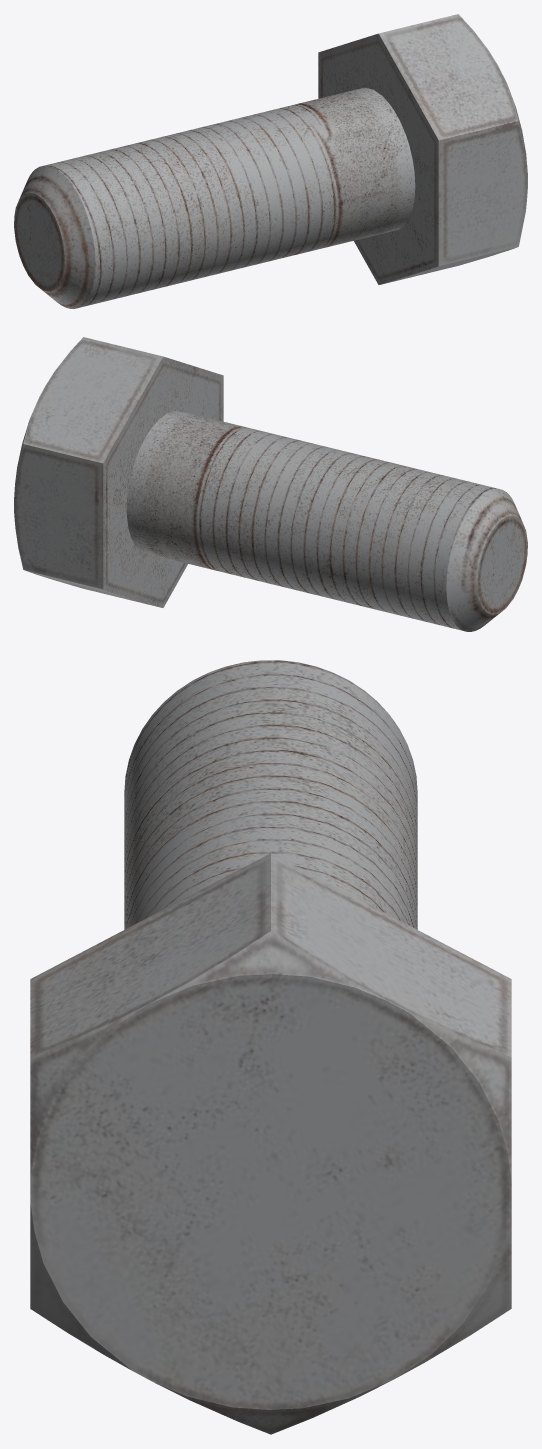
3 views of the same model, one above another, from view 1: azimuth 30°, elevation 25°; view 2: azimuth 150°, elevation 25°; view 3: azimuth 270°, elevation 25° (orthographic). The views are drawn at different scales.
Parts seen in each view (by area): view 1: LowMesh; view 2: LowMesh; view 3: LowMesh.
Boxes of the visible parts, x1=… form: LowMesh: x1=14, y1=14, x2=527, y2=308; LowMesh: x1=14, y1=337, x2=527, y2=631; LowMesh: x1=30, y1=660, x2=511, y2=1434.
Size of the model in its own units: 1.33 by 0.7469 by 0.6469.
1 material, 1 textured.
